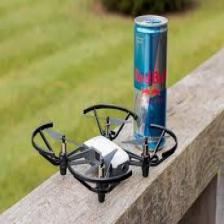drone: (31, 103, 178, 198)
